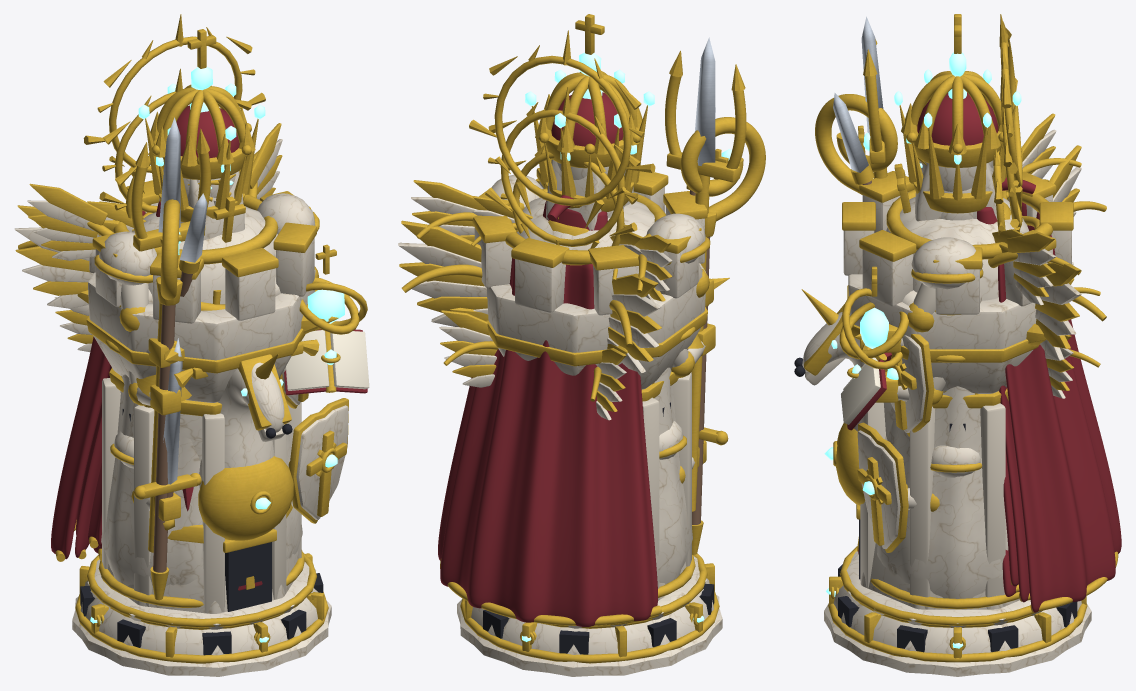
Rendered from sovereign_white.glb.
The picture shows the model from 3 angles, left to right: view 1: azimuth 30°, elevation 25°; view 2: azimuth 150°, elevation 25°; view 3: azimuth 270°, elevation 25°; orthographic projection. The views are drawn at different scales.
Parts seen in each view (by area): view 1: Mesh_Body_k, Mesh_WeaponArm_r, Plinth_k, Mesh_Body_r, Mesh_Body_n, Mesh_Head_k, Mesh_Body_q, Mesh_WeaponArm_b, Mesh_ShieldArm_p, Mesh_WeaponArm_q, Mesh_Head_q, Mesh_ShieldArm_b (+8 smaller); view 2: Mesh_Body_k, Mesh_WeaponArm_r, Mesh_Body_q, Plinth_k, Mesh_Head_k, Mesh_Head_q, Mesh_WeaponArm_q, Mesh_WeaponArm_b, Mesh_Body_r, Mesh_Head_b, Mesh_WeaponArm_k, Mesh_Head_n (+1 smaller); view 3: Mesh_Body_k, Mesh_WeaponArm_r, Plinth_k, Mesh_Body_r, Mesh_Head_k, Mesh_Body_q, Mesh_ShieldArm_p, Mesh_Head_q, Mesh_Body_n, Mesh_ShieldArm_k, Mesh_ShieldArm_q, Mesh_WeaponArm_b (+7 smaller).
Boxes of the visible parts, left/top/right/bottom form: Mesh_Body_k: left=27, top=123, right=302, bottom=586; Mesh_WeaponArm_r: left=77, top=180, right=338, bottom=402; Plinth_k: left=72, top=552, right=331, bottom=676; Mesh_Body_r: left=101, top=368, right=301, bottom=613; Mesh_Body_n: left=182, top=354, right=293, bottom=540; Mesh_Head_k: left=83, top=14, right=265, bottom=205; Mesh_Body_q: left=14, top=150, right=304, bottom=607; Mesh_WeaponArm_b: left=105, top=199, right=182, bottom=600; Mesh_ShieldArm_p: left=288, top=398, right=348, bottom=523; Mesh_WeaponArm_q: left=119, top=117, right=210, bottom=552; Mesh_Head_q: left=99, top=68, right=265, bottom=223; Mesh_ShieldArm_b: left=284, top=329, right=369, bottom=395; Mesh_Body_k: left=411, top=180, right=692, bottom=626; Mesh_WeaponArm_r: left=450, top=168, right=729, bottom=389; Mesh_Body_q: left=398, top=220, right=695, bottom=597; Plinth_k: left=457, top=553, right=722, bottom=676; Mesh_Head_k: left=469, top=14, right=655, bottom=228; Mesh_Head_q: left=485, top=69, right=654, bottom=248; Mesh_WeaponArm_q: left=665, top=37, right=746, bottom=511; Mesh_WeaponArm_b: left=671, top=117, right=765, bottom=554; Mesh_Body_r: left=641, top=371, right=692, bottom=600; Mesh_Head_b: left=500, top=144, right=637, bottom=246; Mesh_WeaponArm_k: left=646, top=213, right=710, bottom=305; Mesh_Head_n: left=471, top=195, right=642, bottom=281; Mesh_Body_k: left=877, top=113, right=1121, bottom=612; Mesh_WeaponArm_r: left=842, top=171, right=1073, bottom=393; Plinth_k: left=824, top=546, right=1091, bottom=676; Mesh_Body_r: left=856, top=388, right=1019, bottom=609; Mesh_Head_k: left=901, top=14, right=1022, bottom=211; Mesh_Body_q: left=870, top=145, right=1106, bottom=609; Mesh_ShieldArm_p: left=857, top=422, right=982, bottom=552; Mesh_Head_q: left=894, top=69, right=1022, bottom=232; Mesh_Body_n: left=794, top=289, right=887, bottom=505; Mesh_ShieldArm_k: left=902, top=237, right=983, bottom=332; Mesh_ShieldArm_q: left=839, top=266, right=981, bottom=369; Mesh_WeaponArm_b: left=815, top=94, right=897, bottom=194.
Bounding box in the file's own units: 0.8751 × 1.93 × 0.9433.
9 materials, 3 textured.
